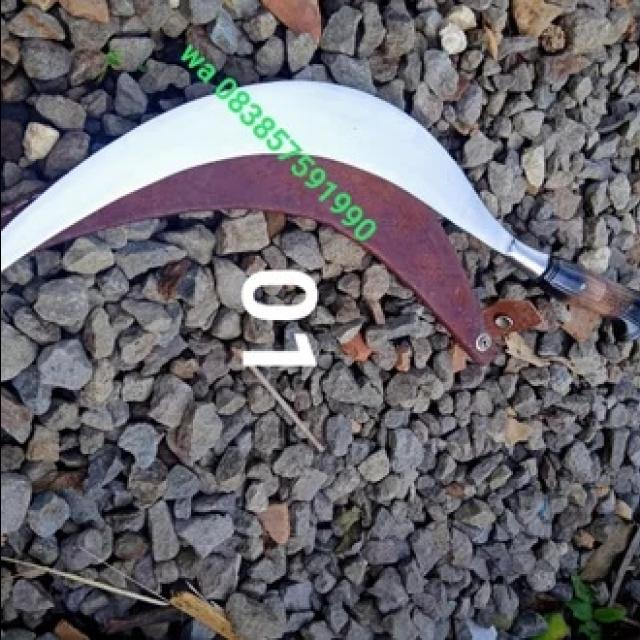Celurit: (2, 83, 640, 317)
